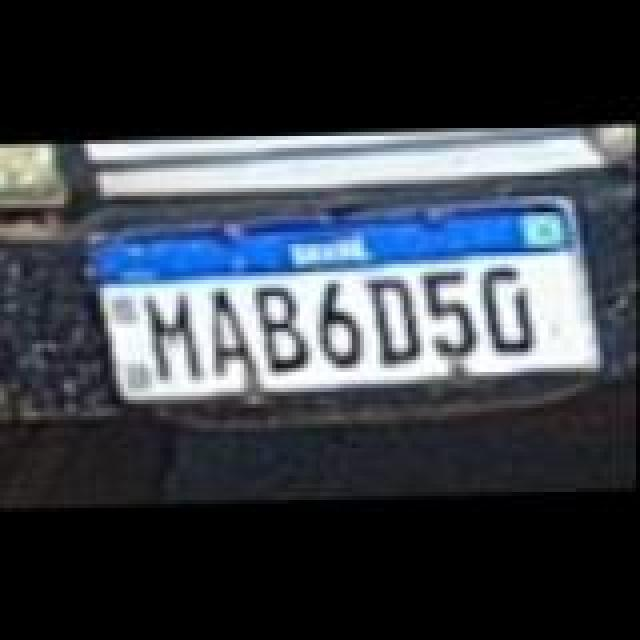5: (424, 266, 484, 358)
6: (312, 280, 364, 368)
A: (206, 286, 262, 378)
B: (258, 284, 314, 372)
D: (366, 272, 430, 364), (480, 264, 540, 356)
M: (146, 290, 202, 382)
